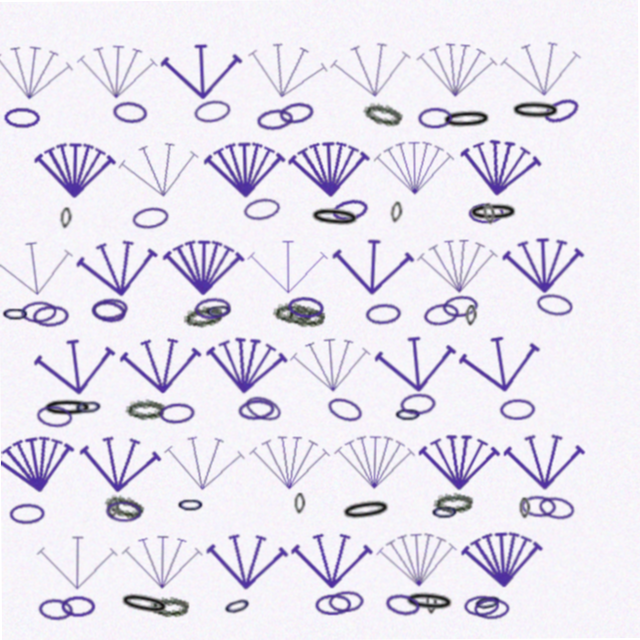chain: (115, 588, 170, 618), (338, 497, 392, 524), (542, 96, 583, 129), (309, 205, 362, 230), (401, 590, 454, 615), (242, 392, 283, 424), (324, 394, 364, 426), (102, 490, 144, 520), (363, 100, 405, 129), (442, 109, 494, 132), (511, 101, 563, 123), (182, 302, 224, 329), (468, 203, 520, 224), (41, 396, 93, 417), (194, 97, 233, 124), (331, 197, 370, 224), (535, 293, 574, 320), (536, 496, 575, 523), (382, 592, 420, 619), (243, 196, 282, 222), (422, 302, 461, 328), (279, 100, 317, 126), (132, 204, 170, 230), (90, 297, 128, 323), (257, 107, 295, 132), (35, 402, 73, 427), (219, 591, 252, 619), (432, 492, 472, 515), (113, 99, 150, 123), (287, 295, 324, 319), (442, 295, 479, 319), (286, 305, 325, 327), (125, 397, 164, 419), (91, 296, 128, 319), (194, 296, 231, 319), (365, 303, 402, 326), (158, 401, 195, 424), (237, 398, 274, 421), (399, 393, 436, 416), (104, 499, 141, 522), (470, 590, 502, 616), (519, 496, 555, 519), (36, 596, 72, 619), (326, 590, 362, 613), (273, 302, 312, 323), (148, 595, 187, 616), (32, 303, 69, 325), (5, 105, 41, 127), (21, 299, 57, 321), (8, 501, 44, 523), (472, 599, 508, 621), (462, 596, 497, 618), (469, 204, 505, 225), (499, 400, 535, 421), (313, 594, 349, 615), (419, 108, 454, 129), (59, 594, 94, 615), (204, 299, 234, 321), (73, 394, 103, 416), (1, 301, 30, 322), (393, 404, 422, 425), (175, 493, 204, 514), (429, 502, 458, 523), (390, 202, 404, 224), (483, 204, 497, 226), (105, 496, 119, 518), (60, 206, 73, 227), (465, 306, 477, 327), (293, 493, 304, 514), (518, 499, 529, 520), (424, 594, 435, 615)
fan: (243, 32, 334, 108), (456, 328, 545, 400), (117, 133, 205, 203), (457, 133, 545, 203), (75, 231, 162, 301), (32, 329, 119, 399), (330, 35, 417, 104), (203, 330, 289, 398), (76, 428, 162, 496), (0, 425, 79, 498), (373, 330, 459, 397), (501, 36, 586, 103), (161, 428, 246, 495), (416, 37, 501, 103), (289, 331, 373, 397), (0, 35, 78, 105), (77, 37, 161, 102), (119, 331, 203, 396), (374, 527, 458, 592), (459, 527, 543, 592), (0, 231, 78, 300), (289, 136, 372, 200), (332, 234, 415, 298), (417, 234, 500, 298), (204, 528, 287, 592), (162, 38, 245, 101), (35, 136, 117, 199), (163, 234, 245, 297), (503, 234, 585, 297), (248, 430, 330, 493), (333, 430, 415, 493), (205, 137, 287, 199), (35, 529, 117, 591), (120, 529, 202, 591), (418, 431, 499, 493), (503, 431, 584, 493), (375, 137, 456, 198), (248, 235, 329, 296), (290, 529, 371, 590)
